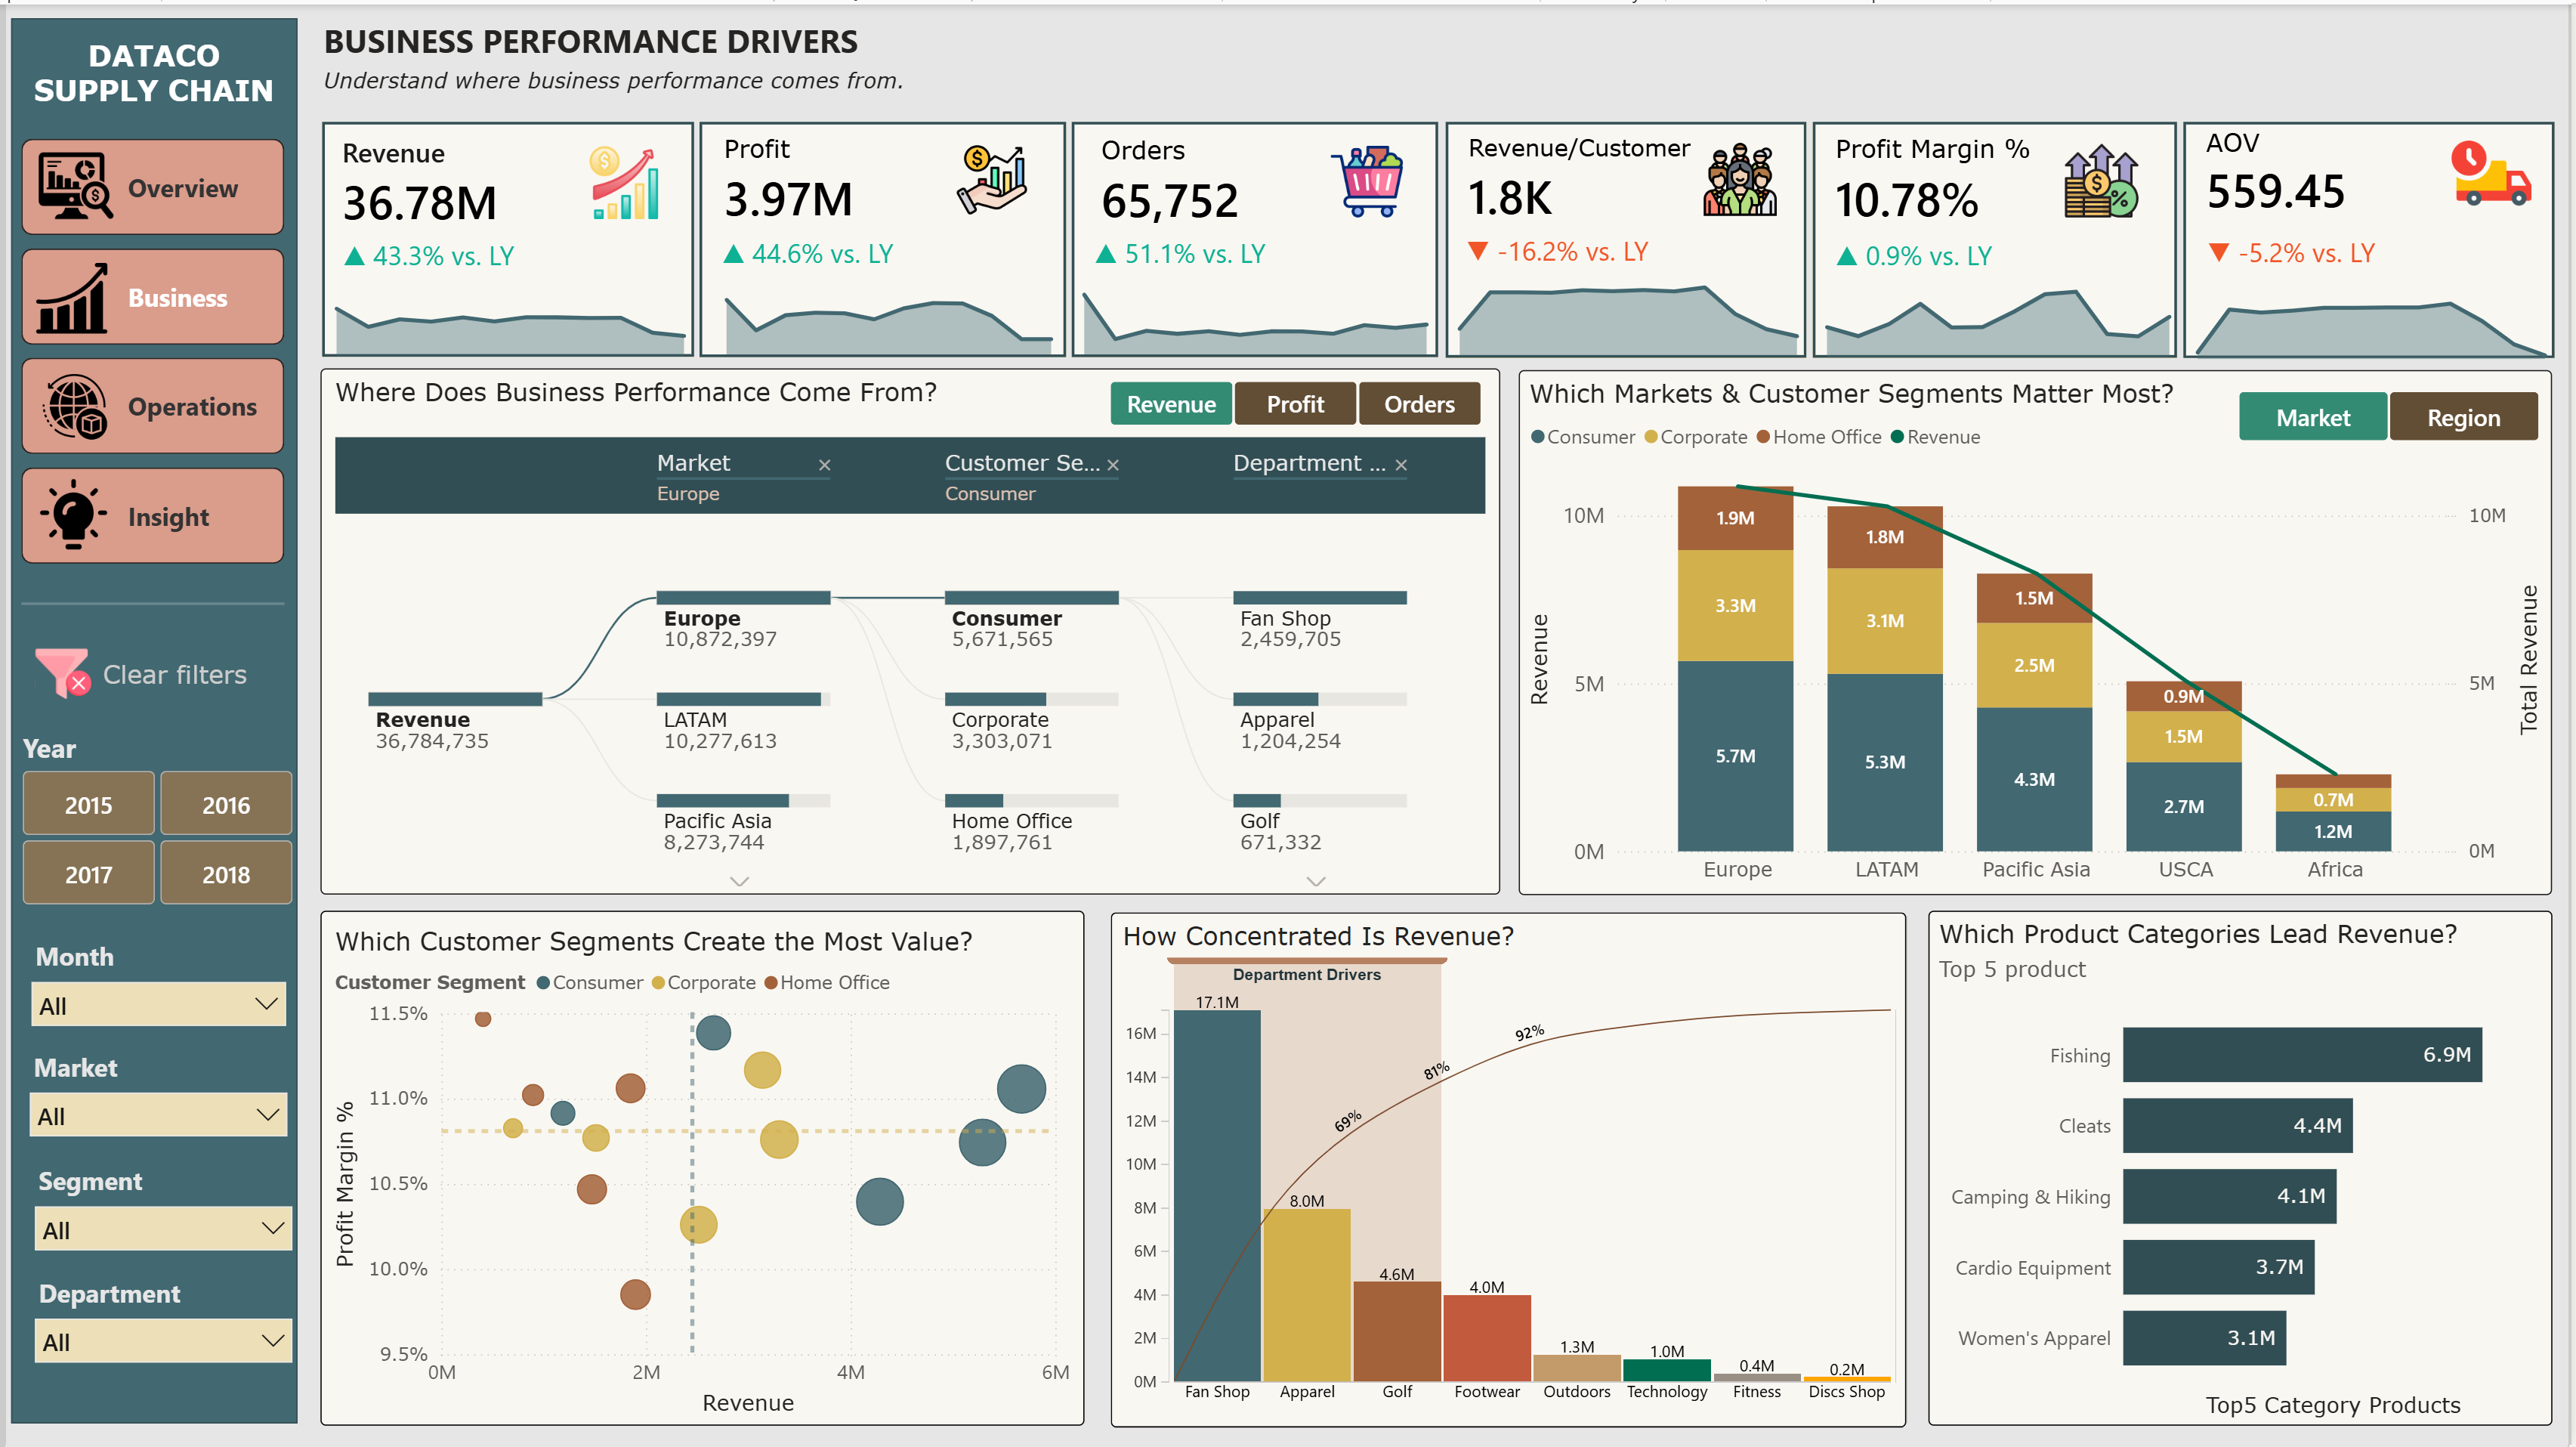

The page's visual inventory and layout, read from the dashboard file:
{"tool":"powerbi","page":{"name":"Business","canvas":[1920,1080],"ordinal":1},"visuals":[{"type":"shape","box":[236.4,87.9,278.7,176],"z":0,"group":"g3"},{"type":"shape","box":[520.2,87.9,274.7,176.2],"z":0,"group":"g4"},{"type":"shape","box":[799,87.9,274.5,176.2],"z":0,"group":"g5"},{"type":"group","id":"g1","title":"Group 1","box":[1077.2,87.9,273.9,176.7],"z":0},{"type":"shape","box":[1078.1,87.9,270.4,176.7],"z":0,"group":"g1"},{"type":"shape","box":[1353.4,87.9,272.9,176.7],"z":0,"group":"g6"},{"type":"shape","box":[1631.7,87.9,278.1,177.1],"z":0,"group":"g2"},{"type":"group","id":"g2","title":"Group 1","box":[1631.7,87.9,281.6,177.1],"z":1000},{"type":"cardVisual","fields":{"Data":["_Measure.Avg Order Value (AOV)"]},"box":[1631.7,87.9,278.1,77.9],"z":1000,"group":"g2"},{"type":"cardVisual","fields":{"Data":["_Measure.Revenue per Customer"]},"box":[1078.1,93.5,270.4,77],"z":1000,"group":"g1"},{"type":"cardVisual","fields":{"Data":["_Measure.Profit"]},"box":[521.2,94.2,272.7,74.4],"z":1000,"group":"g4"},{"type":"cardVisual","fields":{"Data":["_Measure.Orders"]},"box":[804.1,94.6,270.8,77.7],"z":1000,"group":"g5"},{"type":"cardVisual","fields":{"Data":["_Measure.Profit Margin %"]},"box":[1353.4,95.4,272.7,73.5],"z":1000,"group":"g6"},{"type":"cardVisual","fields":{"Data":["_Measure.Revenue"]},"box":[237.4,96.9,276.2,73.1],"z":1000,"group":"g3"},{"type":"cardVisual","fields":{"Data":["_Measure.AOV Label YoY"]},"box":[1633.4,167.6,279.8,31.9],"z":2000,"group":"g2"},{"type":"cardVisual","fields":{"Data":["_Measure.Revenue per customer Label YoY"]},"box":[1077.2,168.4,272.1,29.7],"z":2000,"group":"g1"},{"type":"cardVisual","fields":{"Data":["_Measure.Orders Label YoY"]},"box":[799,169,274.5,30],"z":2000,"group":"g5"},{"type":"cardVisual","fields":{"Data":["_Measure.Profit Label YoY"]},"box":[520.2,169.2,276.2,29.2],"z":2000,"group":"g4"},{"type":"cardVisual","fields":{"Data":["_Measure.Profit Margin Label YoY"]},"box":[1353.8,170.6,274,30.5],"z":2000,"group":"g6"},{"type":"cardVisual","fields":{"Data":["_Measure.Total Revenue Label WoW"]},"box":[235.6,171.3,280.4,30.5],"z":2000,"group":"g3"},{"type":"clusteredBarChart","title":"Which Product Categories Lead Revenue?","fields":{"Y":["_Measure.Top5Products"],"Category":["Dim_Product.Category Name"]},"box":[1440.3,679.4,467.4,385.9],"z":2000},{"type":"lineChart","fields":{"Y":["_Measure.Revenue per Customer"],"Category":["Dim_Date.Month"]},"box":[1079.9,193,271.2,69.8],"z":3000,"group":"g1"},{"type":"lineChart","fields":{"Y":["_Measure.Profit"],"Category":["Dim_Date.Month"]},"box":[531.3,198.2,260.9,63.7],"z":3000,"group":"g4"},{"type":"lineChart","fields":{"Y":["_Measure.Orders"],"Category":["Dim_Date.Month"]},"box":[798.8,198.2,275.3,63.7],"z":3000,"group":"g5"},{"type":"lineChart","fields":{"Category":["Dim_Date.Month"],"Y":["_Measure.Profit Margin %"]},"box":[1354,198.2,275.3,65.7],"z":3000,"group":"g6"},{"type":"lineChart","fields":{"Category":["Dim_Date.Month"],"Y":["_Measure.Avg Order Value (AOV)"]},"box":[1632.4,203.3,279.4,61.6],"z":3000,"group":"g2"},{"type":"lineChart","fields":{"Y":["_Measure.Revenue"],"Category":["Dim_Date.Month"]},"box":[238.5,204,279.4,59.6],"z":3000,"group":"g3"},{"type":"decompositionTreeVisual","title":"Where Does Business Performance Come From?","fields":{"Analyze":["_Measure.Revenue"],"ExplainBy":["Dim_Geography.Market","Dim_Customer.Customer Segment","Dim_Product.Department Name"]},"box":[235.6,273.1,883.9,394],"z":3000},{"type":"paretoEDD8E69761BA4B7BB3AA6D813990D7BF","title":"How Concentrated Is Revenue?","fields":{"values":["_Measure.Revenue"],"categories":["Dim_Product.Department Name"]},"box":[827.6,679.6,596.2,385.7],"z":4000},{"type":"advancedSlicerVisual","title":"BUSINESS DRIVER DISCOVERY","fields":{"Values":["Metric 2.Metric 2"]},"box":[828,283,279,32],"z":5000},{"type":"lineStackedColumnComboChart","title":"Which Markets & Customer Segments Matter Most?","fields":{"Category":["Dim_Geography.Market"],"Y":["_Measure.Revenue"],"Y2":["_Measure.Revenue"],"Series":["Dim_Customer.Customer Segment"]},"box":[1133.1,273.8,774.3,393.4],"z":6000},{"type":"group","id":"g3","title":"Srorecard Revenue","box":[235.6,87.9,282.3,176],"z":7000},{"type":"group","id":"g4","title":"Scorecard Profit","box":[520.2,87.9,276.2,176.2],"z":8000},{"type":"group","id":"g5","title":"Group 1","box":[798.8,87.9,276,176.2],"z":9000},{"type":"group","id":"g6","title":"Group 1","box":[1353.4,87.9,275.9,176.7],"z":10000},{"type":"advancedSlicerVisual","fields":{"Values":["Para Geography.Para Geography"]},"box":[1673.5,290.6,224.9,36.5],"z":11000},{"type":"scatterChart","title":"Which Customer Segments Create the Most Value?","fields":{"Y":["_Measure.Profit Margin %"],"X":["_Measure.Revenue"],"Category":["Dim_Geography.Market"],"Size":["_Measure.Orders"],"Series":["Dim_Customer.Customer Segment"]},"box":[235.5,679.4,572.5,385.9],"z":12000},{"type":"shape","box":[4.2,10.4,214.7,1052.8],"z":13000},{"type":"advancedSlicerVisual","fields":{"Values":["Dim_Date.Year"]},"box":[7.4,542.4,212.2,138.5],"z":14000},{"type":"slicer","fields":{"Values":["Dim_Date.Month"]},"box":[8.8,695.6,210.8,84],"z":15000},{"type":"slicer","fields":{"Values":["Dim_Geography.Market"]},"box":[7.9,778.7,213.2,85.3],"z":16000},{"type":"slicer","fields":{"Values":["Dim_Customer.Customer Segment"]},"box":[11.1,864,213.2,83.7],"z":17000},{"type":"actionButton","box":[17.7,476,191.6,50.1],"z":18000},{"type":"shape","box":[11.4,420,197.1,57.1],"z":19000},{"type":"slicer","fields":{"Values":["Dim_Product.Department Name"]},"box":[11.1,947.7,213.2,82.1],"z":20000},{"type":"pageNavigator","box":[11.1,100,197.2,319.4],"z":21000},{"type":"image","title":"Overview","box":[12.3,106.2,79.2,60],"z":22000},{"type":"image","title":"Overview","box":[11.5,193.8,75.4,53.1],"z":23000},{"type":"image","title":"Overview","box":[12.3,274.6,77.7,52.3],"z":24000},{"type":"image","title":"Overview","box":[10.8,353.8,80.8,55.4],"z":25000},{"type":"textbox","box":[2.1,20.8,216.8,79.2],"z":26000},{"type":"textbox","title":"BUSINESS PERFORMANCE DRIVERS","box":[233.3,9.9,716.2,73.9],"z":27000}]}

Visuals, with their boxes in screenshot pixels (x1, y1, x2, y2), scaled from the page's 1920x1080 canvas onto the 2576x1447 screenshot:
shape: region(317, 118, 691, 354)
shape: region(698, 118, 1067, 354)
shape: region(1072, 118, 1441, 354)
"Group 1" group: region(1445, 118, 1813, 354)
shape: region(1447, 118, 1809, 354)
shape: region(1816, 118, 2182, 354)
shape: region(2189, 118, 2562, 355)
"Group 1" group: region(2189, 118, 2567, 355)
cardVisual - _Measure.Avg Order Value (AOV): region(2189, 118, 2562, 222)
cardVisual - _Measure.Revenue per Customer: region(1447, 125, 1809, 228)
cardVisual - _Measure.Profit: region(700, 126, 1065, 226)
cardVisual - _Measure.Orders: region(1079, 127, 1442, 231)
cardVisual - _Measure.Profit Margin %: region(1816, 128, 2182, 226)
cardVisual - _Measure.Revenue: region(319, 130, 689, 227)
cardVisual - _Measure.AOV Label YoY: region(2191, 224, 2567, 267)
cardVisual - _Measure.Revenue per customer Label YoY: region(1445, 226, 1810, 265)
cardVisual - _Measure.Orders Label YoY: region(1072, 227, 1441, 267)
cardVisual - _Measure.Profit Label YoY: region(698, 227, 1068, 266)
cardVisual - _Measure.Profit Margin Label YoY: region(1816, 228, 2184, 270)
cardVisual - _Measure.Total Revenue Label WoW: region(316, 230, 692, 271)
"Which Product Categories Lead Revenue?" clusteredBarChart: region(1932, 911, 2559, 1427)
lineChart - _Measure.Revenue per Customer x Dim_Date.Month: region(1449, 258, 1813, 352)
lineChart - _Measure.Profit x Dim_Date.Month: region(713, 265, 1063, 351)
lineChart - _Measure.Orders x Dim_Date.Month: region(1072, 265, 1441, 351)
lineChart - Dim_Date.Month x _Measure.Profit Margin %: region(1817, 265, 2186, 354)
lineChart - Dim_Date.Month x _Measure.Avg Order Value (AOV): region(2190, 272, 2565, 355)
lineChart - _Measure.Revenue x Dim_Date.Month: region(320, 274, 695, 353)
"Where Does Business Performance Come From?" decompositionTreeVisual: region(316, 366, 1502, 894)
"How Concentrated Is Revenue?" paretoEDD8E69761BA4B7BB3AA6D813990D7BF: region(1110, 911, 1910, 1427)
"BUSINESS DRIVER DISCOVERY" advancedSlicerVisual: region(1111, 379, 1485, 422)
"Which Markets & Customer Segments Matter Most?" lineStackedColumnComboChart: region(1520, 366, 2559, 894)
"Srorecard Revenue" group: region(316, 118, 695, 354)
"Scorecard Profit" group: region(698, 118, 1068, 354)
"Group 1" group: region(1072, 118, 1442, 354)
"Group 1" group: region(1816, 118, 2186, 354)
advancedSlicerVisual - Para Geography.Para Geography: region(2245, 389, 2547, 438)
"Which Customer Segments Create the Most Value?" scatterChart: region(316, 911, 1084, 1427)
shape: region(5, 14, 294, 1424)
advancedSlicerVisual - Dim_Date.Year: region(10, 727, 295, 912)
slicer - Dim_Date.Month: region(12, 932, 295, 1044)
slicer - Dim_Geography.Market: region(11, 1044, 297, 1158)
slicer - Dim_Customer.Customer Segment: region(15, 1158, 301, 1269)
actionButton: region(23, 638, 281, 705)
shape: region(15, 563, 280, 639)
slicer - Dim_Product.Department Name: region(15, 1269, 301, 1380)
pageNavigator: region(15, 134, 280, 562)
"Overview" image: region(17, 142, 123, 223)
"Overview" image: region(15, 260, 116, 331)
"Overview" image: region(17, 368, 121, 438)
"Overview" image: region(14, 474, 123, 549)
textbox: region(3, 28, 294, 134)
"BUSINESS PERFORMANCE DRIVERS" textbox: region(313, 14, 1274, 113)
